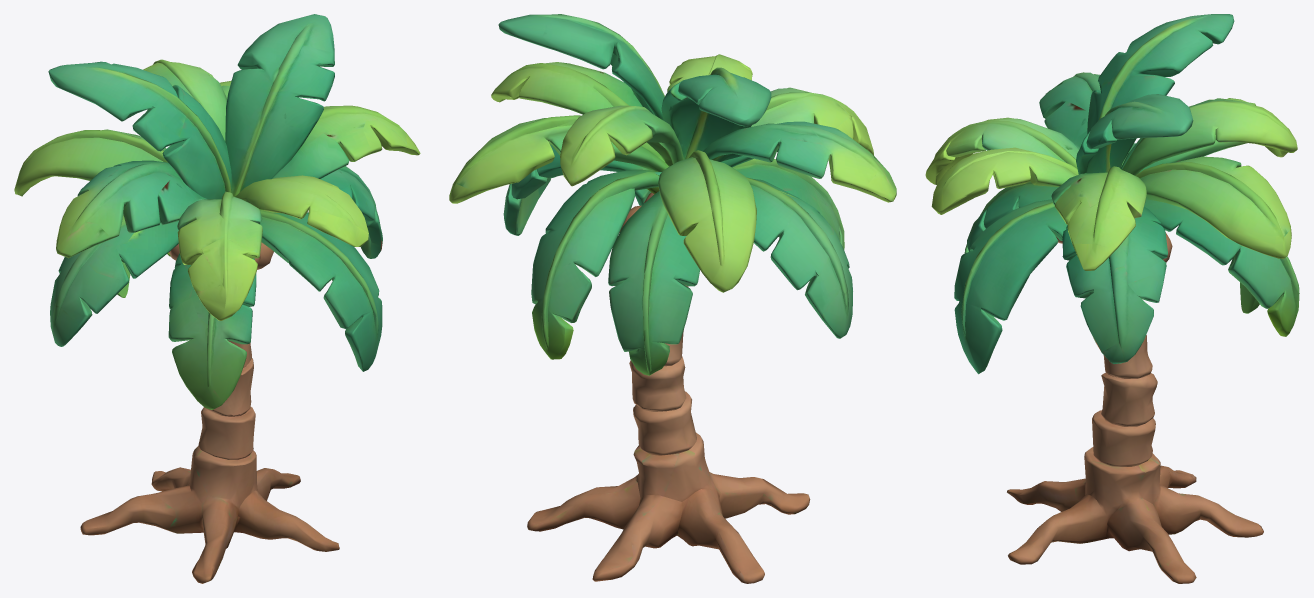
File: palm-cartoon-desktop.glb
3 renders of one model, left to right at view 1: azimuth 30°, elevation 25°; view 2: azimuth 150°, elevation 25°; view 3: azimuth 270°, elevation 25°, orthographic. The views are drawn at different scales.
Visible parts, largest first — view 1: model; view 2: model; view 3: model.
Boxes of the visible parts, bbox=[...] form: model: bbox=[14, 14, 420, 583]; model: bbox=[449, 14, 896, 583]; model: bbox=[925, 14, 1299, 583].
Size of the model in its own units: 1.57 by 1.9 by 1.36.
Materials: 1 (1 with a texture image).
